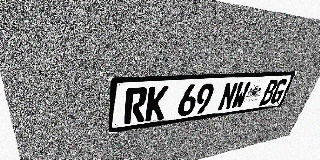6: (177, 84, 200, 117)
9: (193, 83, 216, 115)
B: (259, 79, 279, 105)
G: (269, 79, 289, 104)
K: (145, 86, 169, 122)
N: (217, 82, 239, 111)
R: (124, 87, 148, 125)
W: (230, 81, 251, 109)
